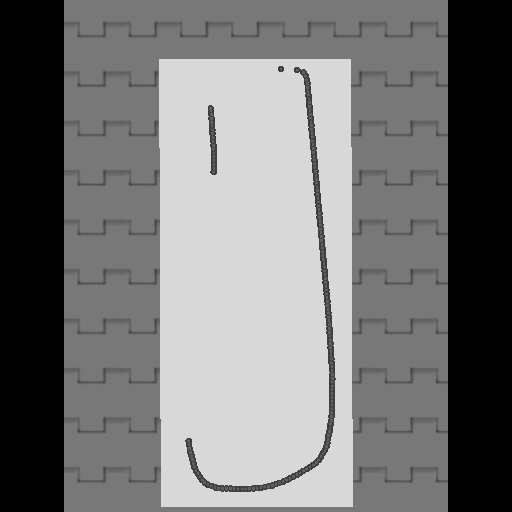Defect: (181, 175, 215, 441)
